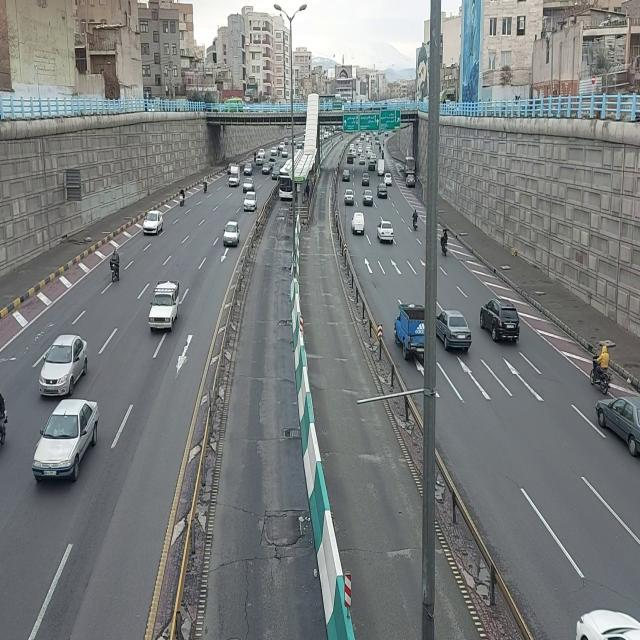Bus: (279, 159, 294, 200)
Car: (33, 398, 99, 485), (39, 330, 89, 398), (595, 391, 640, 459), (480, 296, 521, 346), (437, 307, 473, 351), (143, 208, 164, 236), (222, 218, 240, 248), (377, 220, 395, 246), (243, 191, 257, 213), (244, 176, 256, 195), (178, 186, 187, 210), (376, 182, 388, 200), (362, 190, 374, 208), (344, 188, 355, 206), (271, 163, 281, 182), (383, 171, 393, 187), (362, 171, 371, 187), (244, 162, 254, 176), (406, 174, 416, 188), (262, 162, 271, 176), (342, 168, 351, 182), (256, 154, 265, 166), (281, 147, 289, 159), (367, 160, 375, 172), (347, 153, 355, 164), (271, 145, 278, 157), (359, 154, 365, 166)
Motorcycle: (590, 346, 614, 397), (109, 248, 121, 288), (440, 228, 450, 258), (412, 208, 418, 232), (203, 175, 209, 195), (253, 149, 257, 163), (381, 149, 385, 161), (277, 146, 281, 157), (383, 139, 386, 148), (379, 143, 381, 155)
Pickup: (393, 303, 425, 363), (150, 277, 182, 333), (351, 211, 366, 238), (228, 165, 240, 187), (377, 158, 385, 176)
